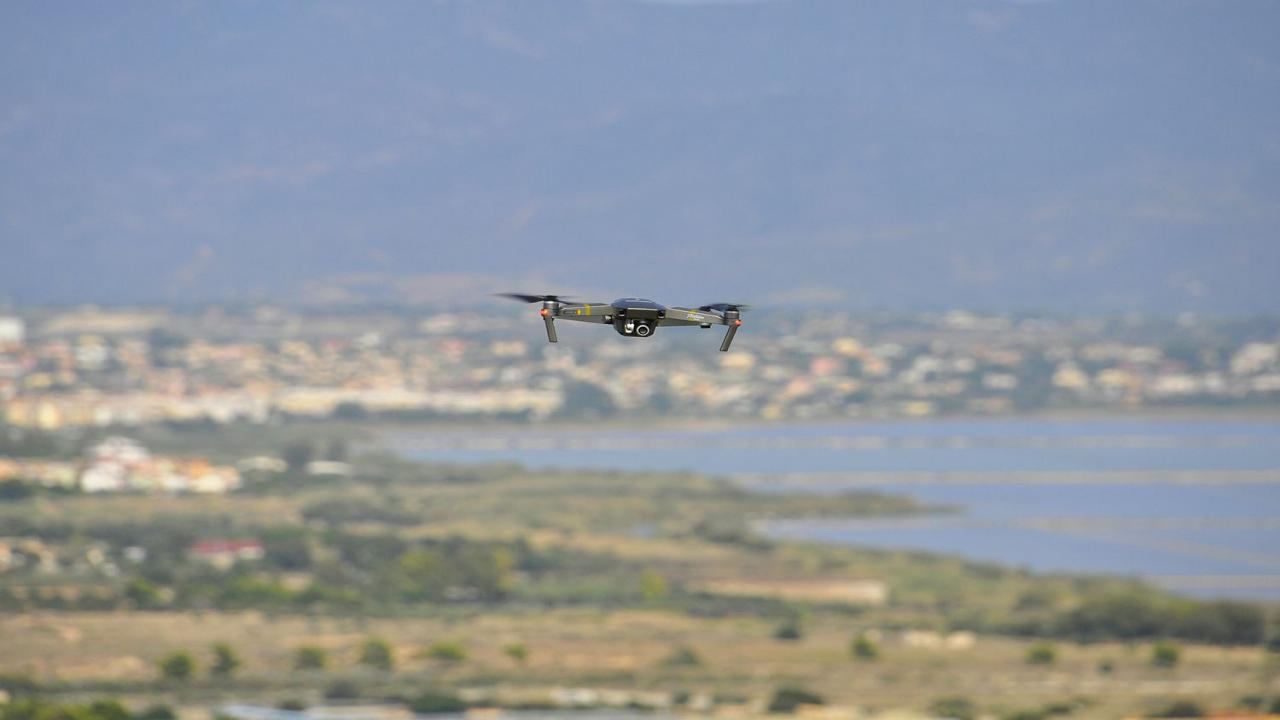Drone: (484, 269, 767, 371)
